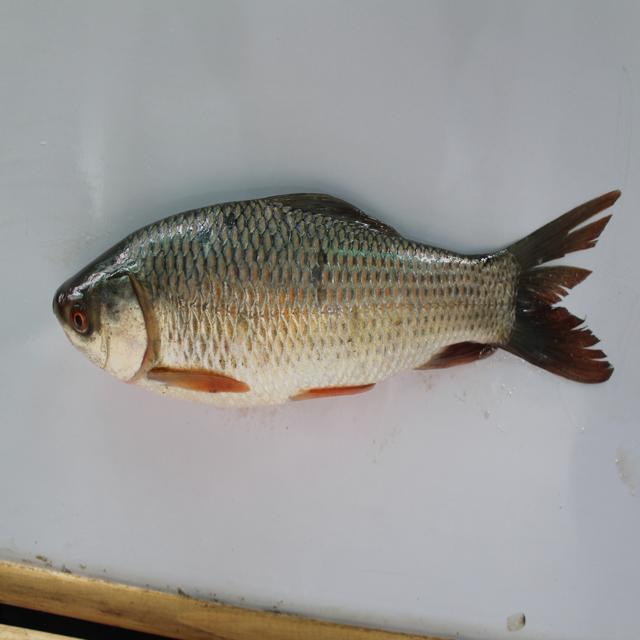Rohu: (48, 192, 624, 413)
